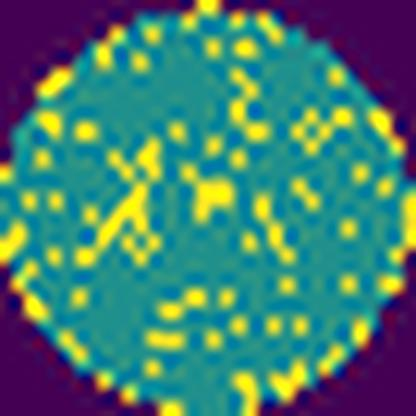Center: (67, 166, 237, 272)
